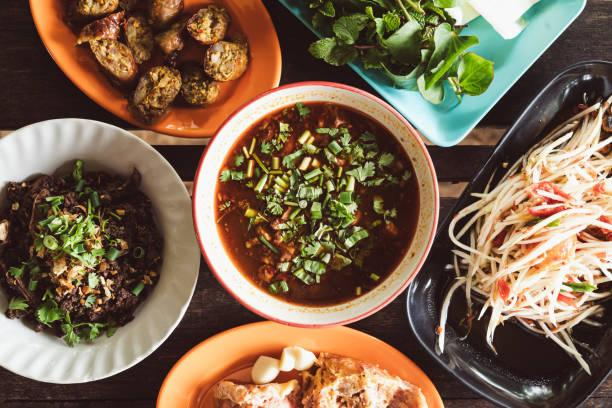Braised Crucian Carp: (192, 80, 434, 326), (4, 117, 201, 385)
